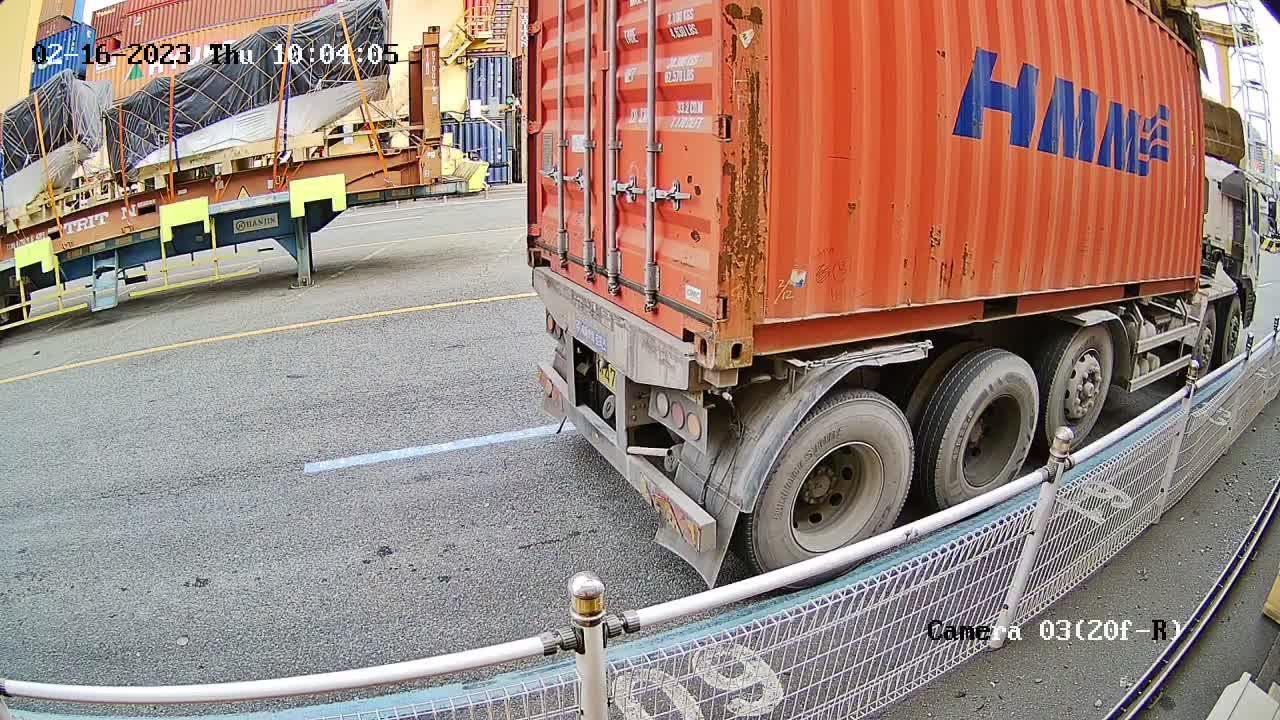Chassis: (530, 267, 699, 390)
Cone: (701, 364, 739, 389)
Hole_L: (719, 282, 780, 365), (526, 222, 563, 276)
Hole_R: (668, 272, 720, 369)
Tire: (752, 398, 916, 569), (931, 356, 1038, 506), (1048, 326, 1115, 438)
